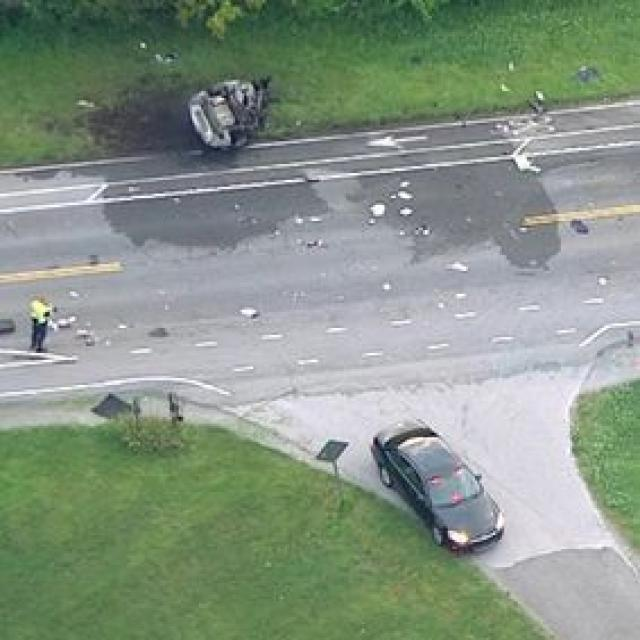traffic_incident: (174, 73, 276, 150)
